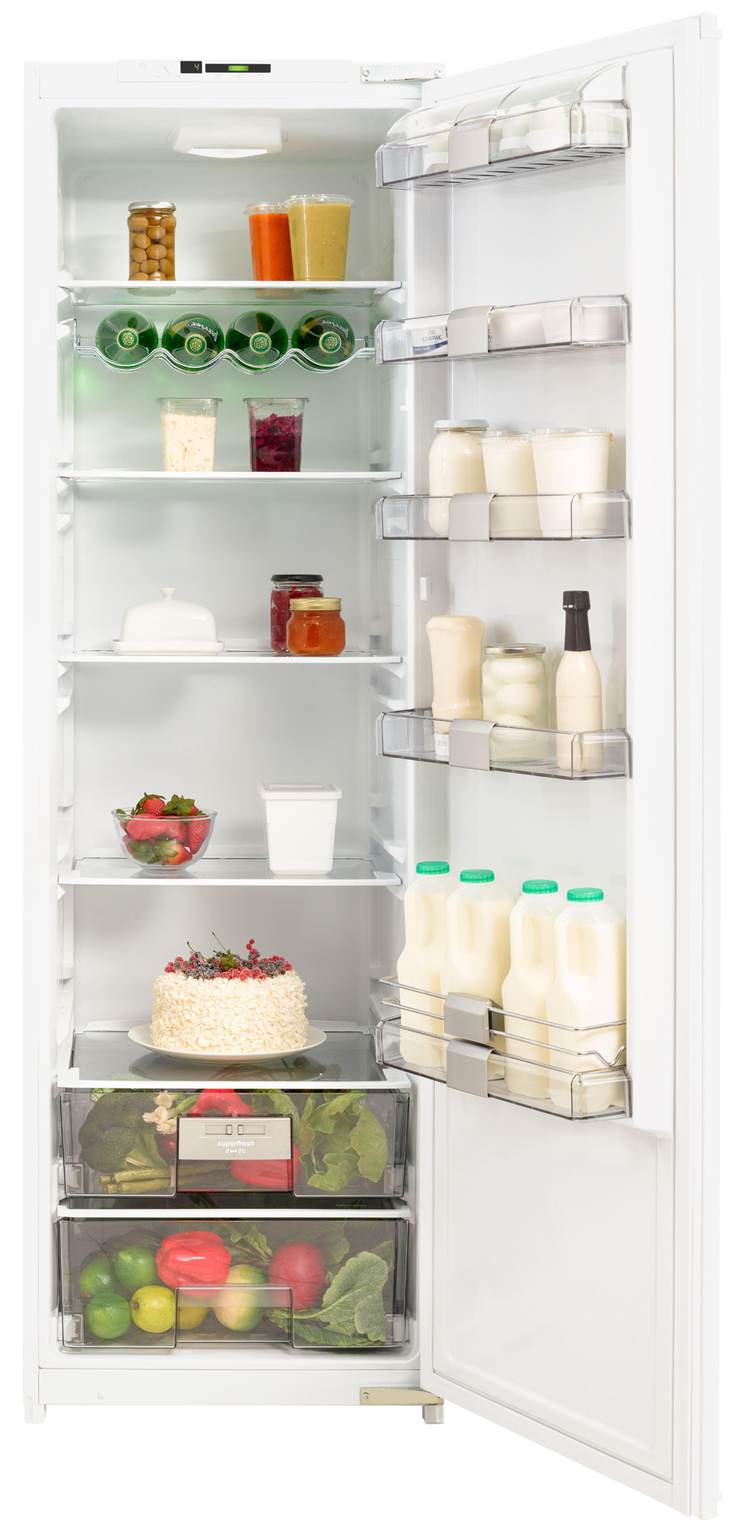bell pepper: (161, 1219, 379, 1327)
broccoli: (85, 1083, 195, 1186)
milk: (414, 853, 657, 1129)
spinach: (263, 1091, 439, 1211)
